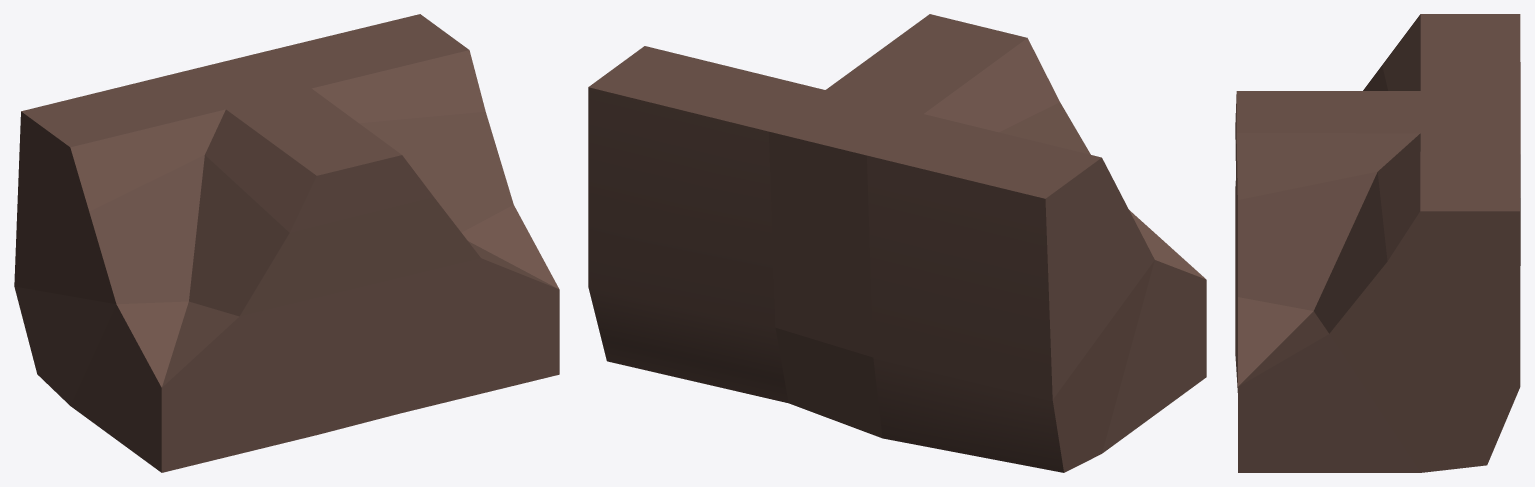
File: Cave_Floor_Corner_DoubleSided.fbx
The picture shows the model from 3 angles, left to right: view 1: azimuth 30°, elevation 25°; view 2: azimuth 150°, elevation 25°; view 3: azimuth 270°, elevation 25°; orthographic projection. The views are drawn at different scales.
Parts seen in each view (by area): view 1: Cave_Floor_Corner_DoubleSided; view 2: Cave_Floor_Corner_DoubleSided; view 3: Cave_Floor_Corner_DoubleSided.
Boxes of the visible parts, x1,y1,x2,y2 form: Cave_Floor_Corner_DoubleSided: [14, 14, 559, 472]; Cave_Floor_Corner_DoubleSided: [588, 14, 1206, 472]; Cave_Floor_Corner_DoubleSided: [1235, 14, 1520, 472].
Size of the model in its own units: 4.99 by 3 by 3.04.
